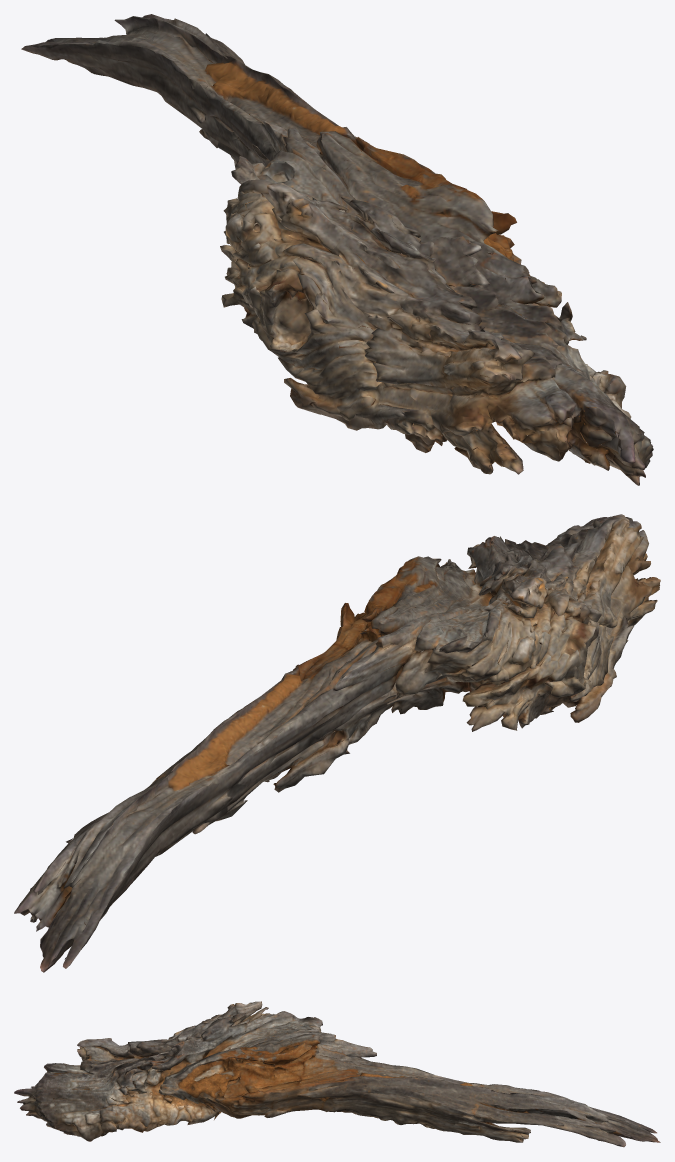
File: bark_debris_01_c.glb
The picture shows the model from 3 angles, top to bottom: view 1: azimuth 30°, elevation 25°; view 2: azimuth 150°, elevation 25°; view 3: azimuth 270°, elevation 25°; orthographic projection. The views are drawn at different scales.
Parts seen in each view (by area): view 1: bark_debris_01_c; view 2: bark_debris_01_c; view 3: bark_debris_01_c.
Boxes of the visible parts, box(x1,y1,x2,y2) form: bark_debris_01_c: box(21, 14, 653, 485); bark_debris_01_c: box(14, 514, 660, 972); bark_debris_01_c: box(14, 1001, 660, 1147).
Size of the model in its own units: 0.1468 by 0.0977 by 0.5716.
Materials: 1 (1 with a texture image).
